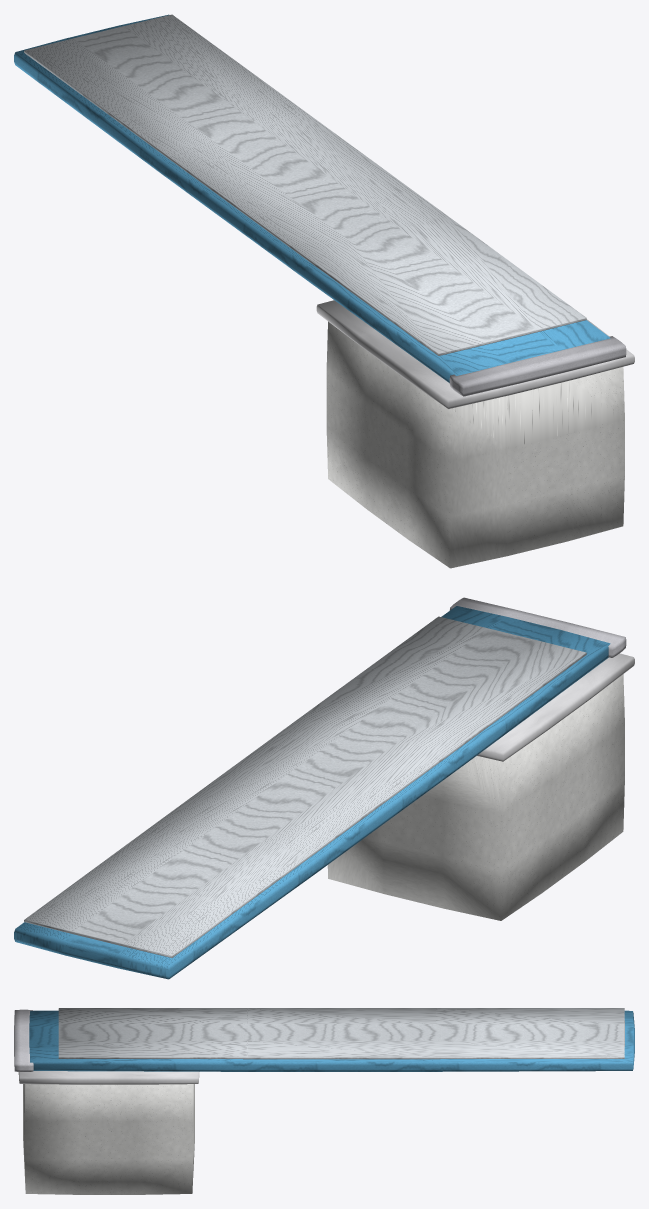
File: diving_board.glb
The picture shows the model from 3 angles, top to bottom: view 1: azimuth 30°, elevation 25°; view 2: azimuth 150°, elevation 25°; view 3: azimuth 270°, elevation 25°; orthographic projection. The views are drawn at different scales.
Visible parts, largest first — view 1: Board, diving_board_body; view 2: Board, diving_board_body; view 3: Board, diving_board_body.
Boxes of the visible parts, <box> form: Board: <box>14,14,626,396</box>; diving_board_body: <box>316,300,634,568</box>; Board: <box>14,597,626,979</box>; diving_board_body: <box>327,653,634,920</box>; Board: <box>14,1008,634,1071</box>; diving_board_body: <box>18,1071,199,1194</box>.
Bounding box in the file's own units: 0.7395 × 0.736 × 3.07.
5 materials, 5 textured.
